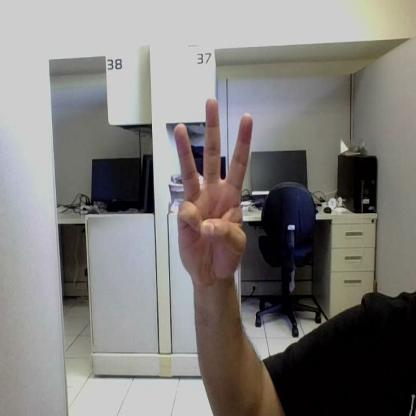W: (175, 98, 253, 278)
